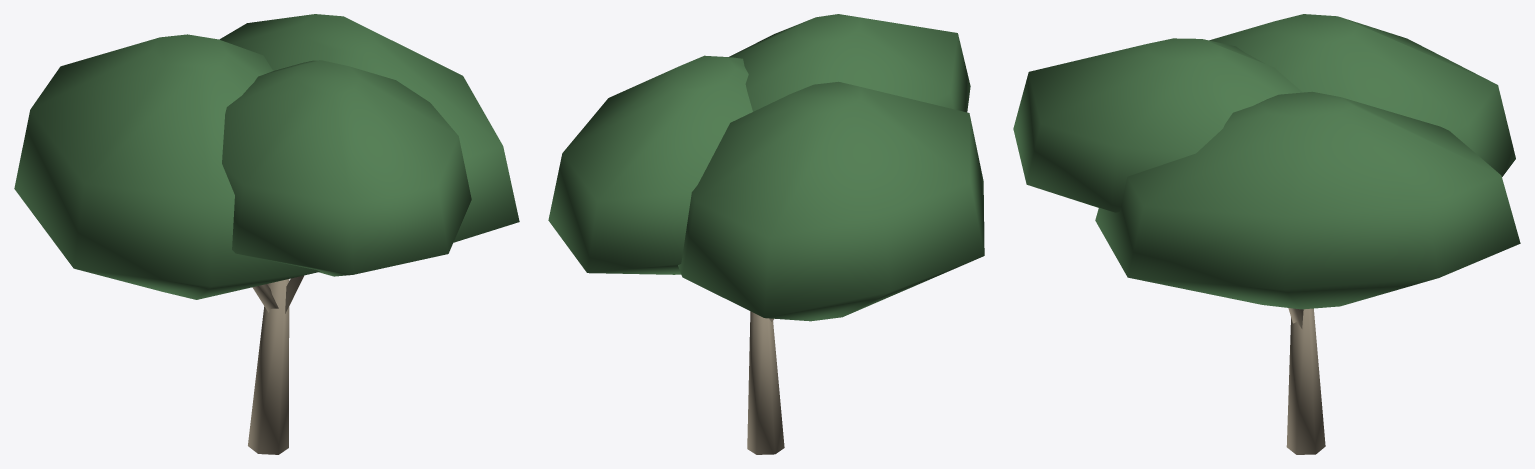
Rendered from banyan-lod.glb.
3 views of the same model, side by side, from view 1: azimuth 30°, elevation 25°; view 2: azimuth 150°, elevation 25°; view 3: azimuth 270°, elevation 25° (orthographic). The views are drawn at different scales.
Parts seen in each view (by area): view 1: banyan-lod_landscape_canopy_banyan, banyan-lod_landscape_bark; view 2: banyan-lod_landscape_canopy_banyan, banyan-lod_landscape_bark; view 3: banyan-lod_landscape_canopy_banyan, banyan-lod_landscape_bark.
Part boxes in pixels (x1,y1,x2,y2): banyan-lod_landscape_canopy_banyan: (14, 14, 519, 299); banyan-lod_landscape_bark: (248, 275, 303, 454); banyan-lod_landscape_canopy_banyan: (548, 14, 984, 321); banyan-lod_landscape_bark: (747, 311, 784, 454); banyan-lod_landscape_canopy_banyan: (1013, 14, 1520, 309); banyan-lod_landscape_bark: (1286, 308, 1325, 454).
Bounding box in the file's own units: 7.64 × 7.4 × 8.62.
